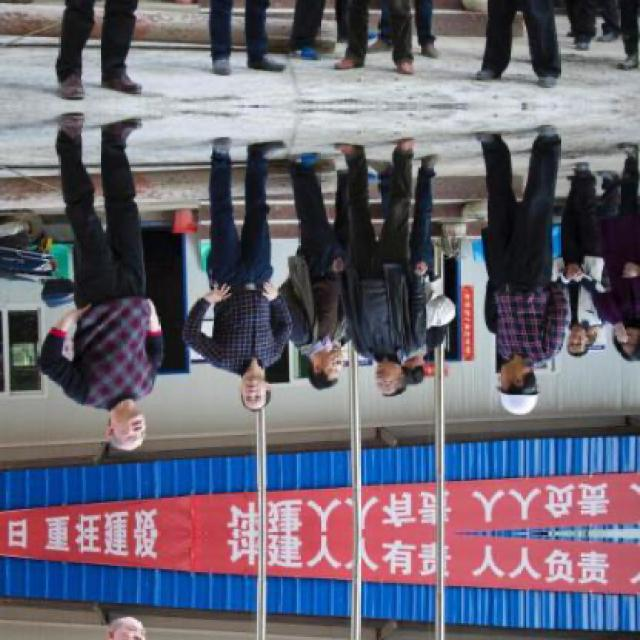con casco: (480, 351, 554, 422)
sin casco: (82, 392, 164, 456), (212, 376, 275, 422), (374, 356, 422, 408), (304, 346, 356, 394)
